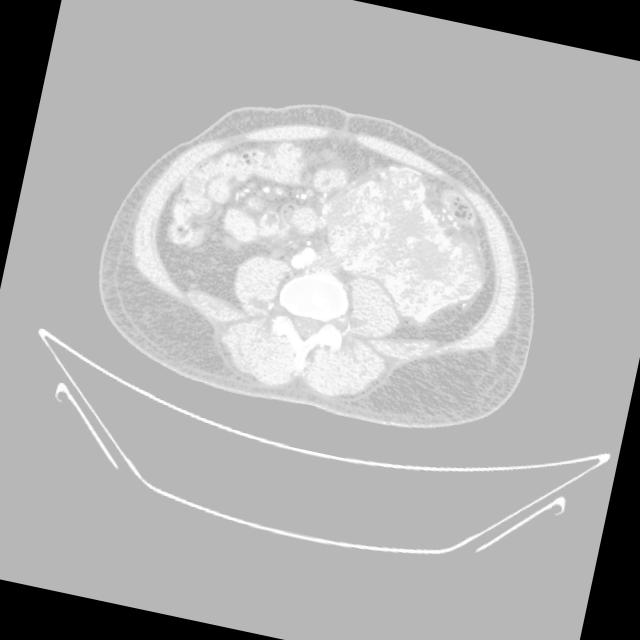TUMOR: (100, 94, 487, 295)
